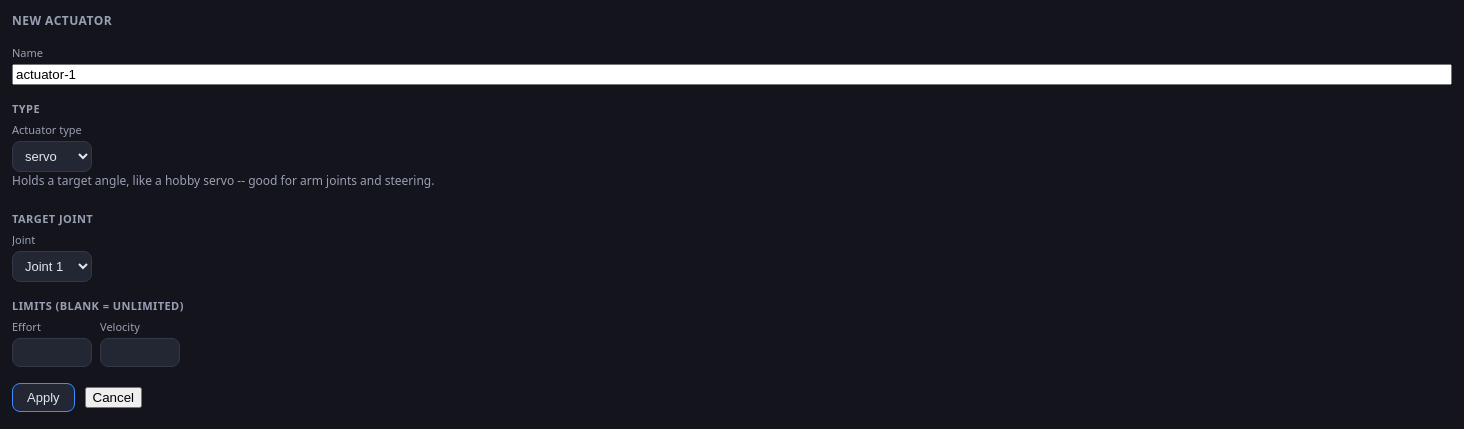
Scenario: ActuatorCreator › shows a description for the selected actuator type that updates live
Expected: the text "Holds a target angle" is shown, [12, 172, 434, 189]
Select "velocity" in the dropdown labelled "Actuator type": (52, 156) [12, 141, 92, 172]
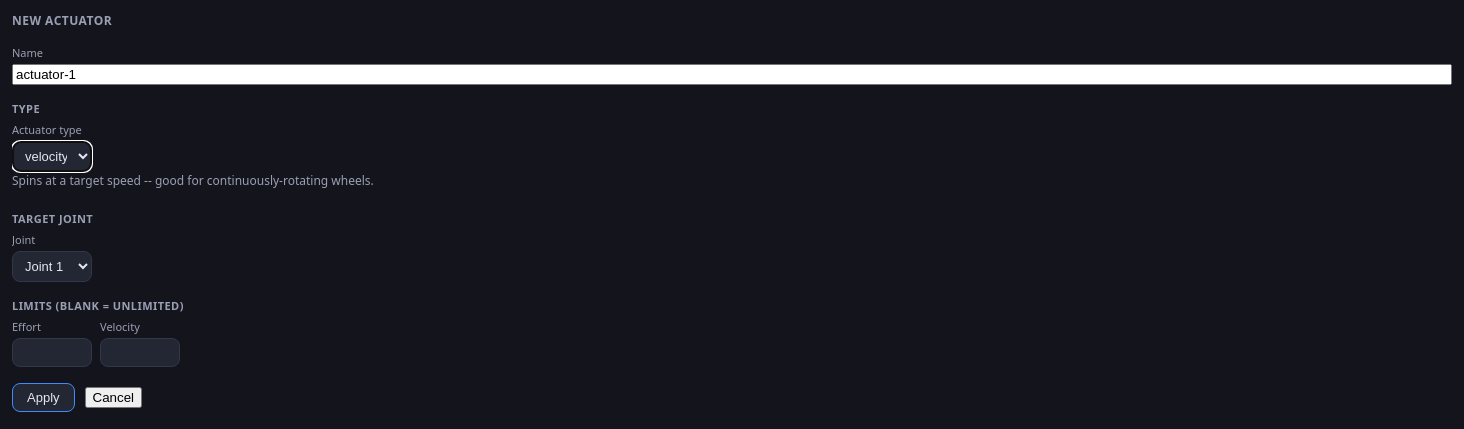
Expected: the text "Spins at a target speed" is shown, [12, 172, 374, 189]
